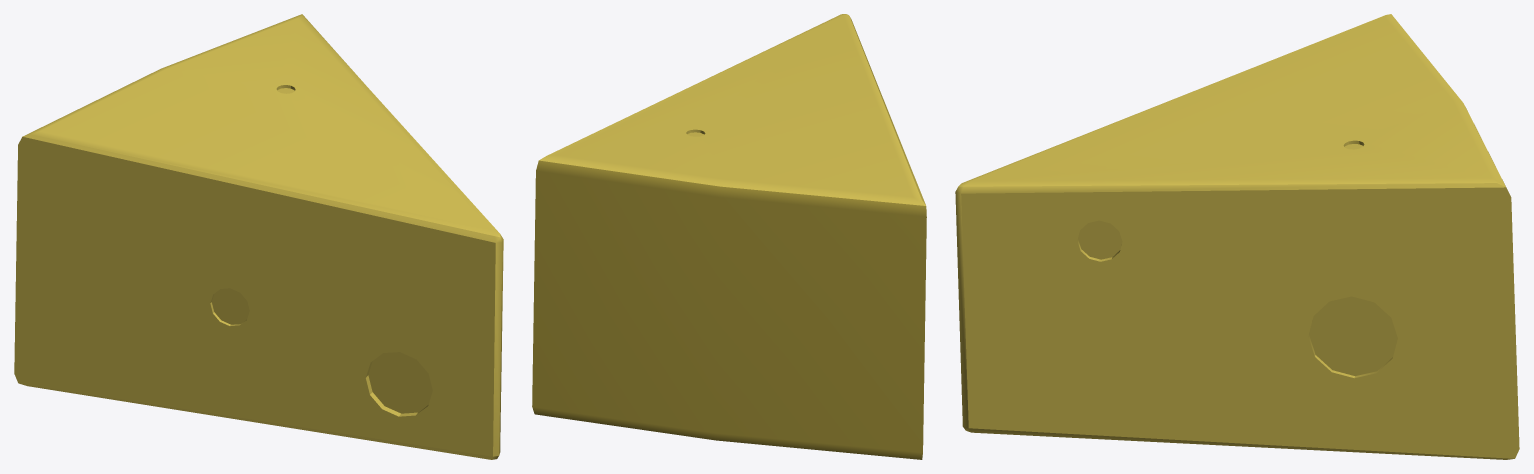
The model's file is T_Cheese_v1.fbx.
The picture shows the model from 3 angles, left to right: view 1: azimuth 30°, elevation 25°; view 2: azimuth 150°, elevation 25°; view 3: azimuth 270°, elevation 25°; orthographic projection. The views are drawn at different scales.
Parts seen in each view (by area): view 1: T_Cheese; view 2: T_Cheese; view 3: T_Cheese.
Part boxes in pixels (box(x1,y1,x2,y2)): T_Cheese: box(14, 14, 503, 459); T_Cheese: box(532, 14, 926, 459); T_Cheese: box(955, 14, 1519, 459).
Size of the model in its own units: 1.64 by 1.21 by 2.2.
